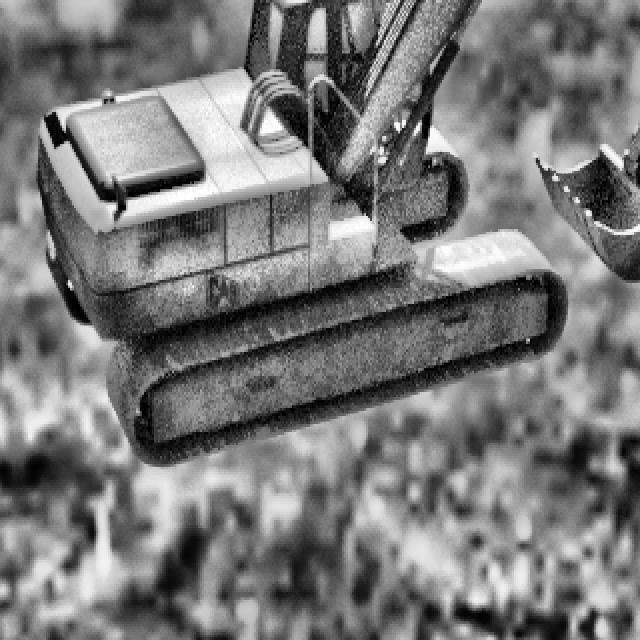excavator: (36, 0, 640, 464)
